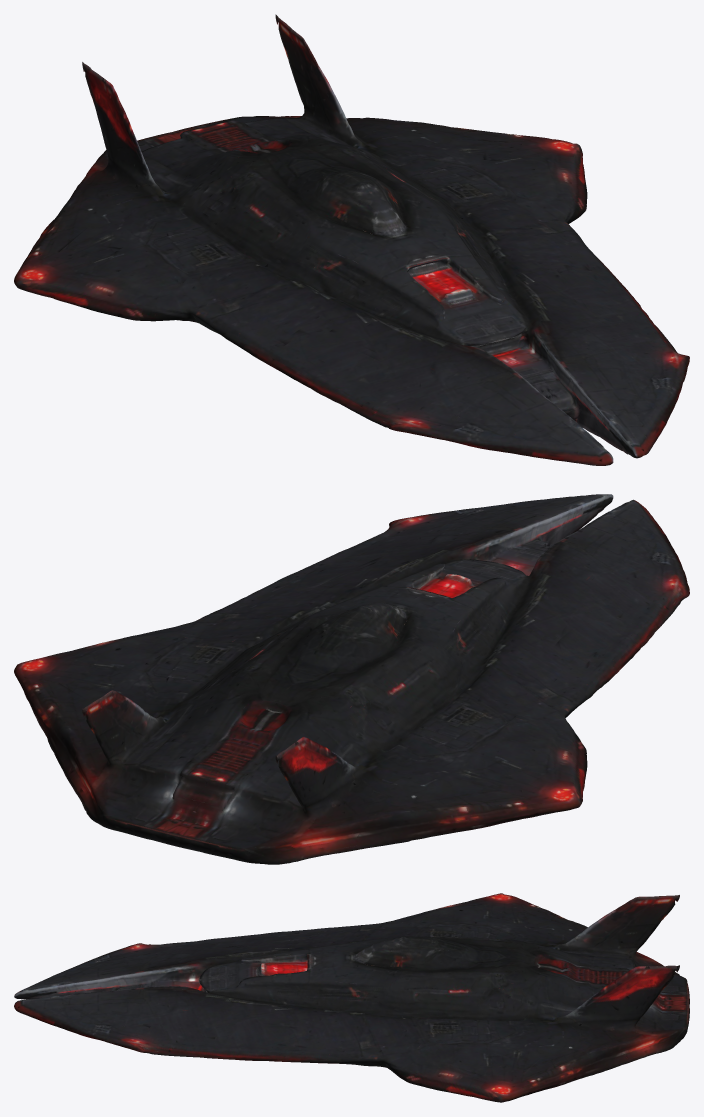
File: Erebus-Prime_Command-Ship.glb
3 views of the same model, one above another, from view 1: azimuth 30°, elevation 25°; view 2: azimuth 150°, elevation 25°; view 3: azimuth 270°, elevation 25° (orthographic). The views are drawn at different scales.
Visible parts, largest first — view 1: Mesh_0; view 2: Mesh_0; view 3: Mesh_0.
Boxes of the visible parts, x1,y1,x2,y2 form: Mesh_0: (14, 14, 689, 465); Mesh_0: (14, 494, 689, 864); Mesh_0: (14, 893, 689, 1102).
Size of the model in its own units: 288 by 69.98 by 400.
1 material, 1 textured.
